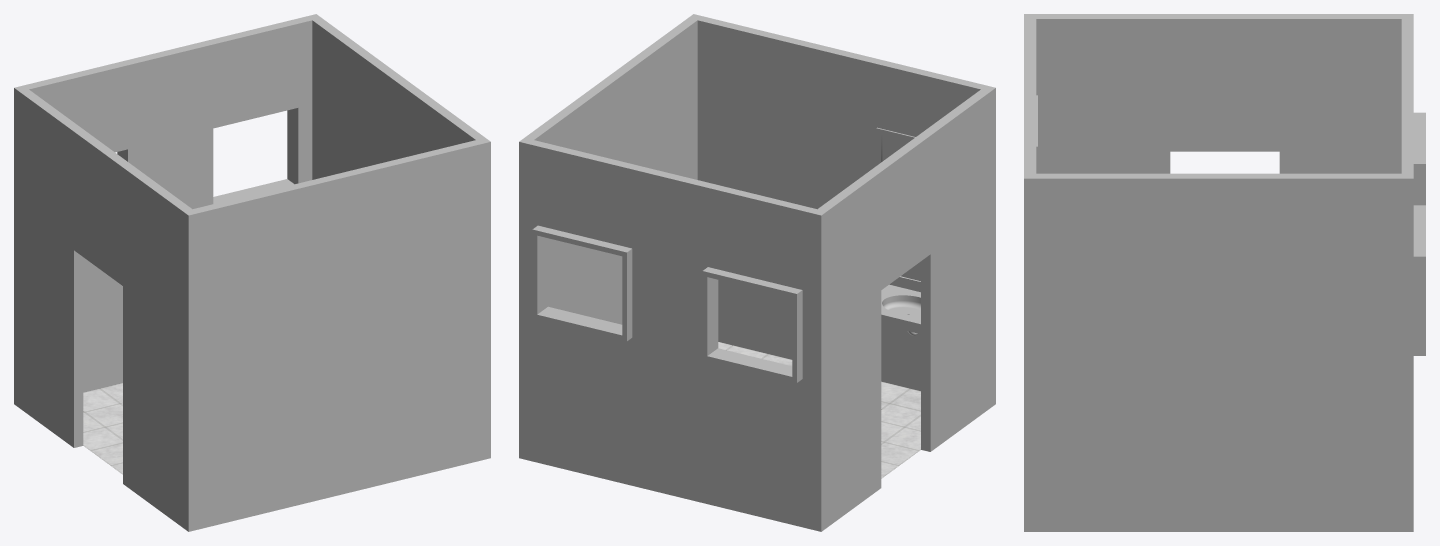
File: bathroom_config_4.dae
3 renders of one model, left to right at view 1: azimuth 30°, elevation 25°; view 2: azimuth 150°, elevation 25°; view 3: azimuth 270°, elevation 25°, orthographic. The views are drawn at different scales.
Parts seen in each view (by area): view 1: configuration_4; view 2: configuration_4; view 3: configuration_4.
Boxes of the visible parts, x1,y1,x2,y2 form: configuration_4: [14, 14, 490, 531]; configuration_4: [519, 14, 995, 531]; configuration_4: [1024, 14, 1425, 531].
Bounding box in the file's own units: 3.2 × 3.3 × 3.2.
